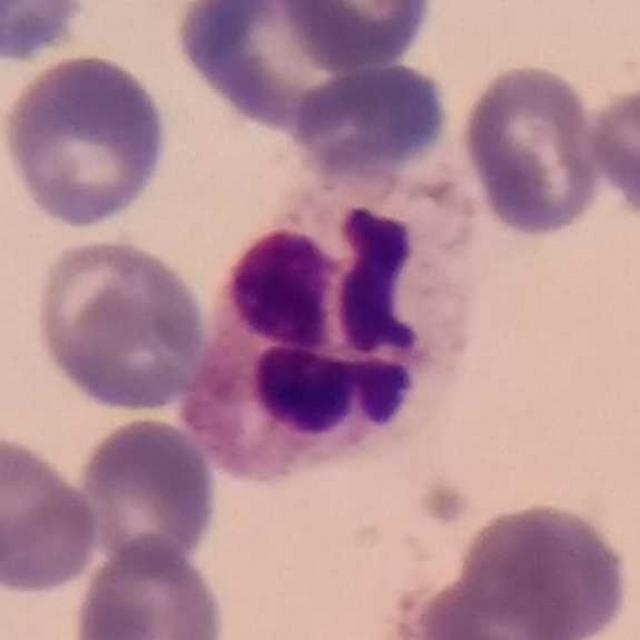Neutrophil: (182, 170, 479, 480)
RBC: (29, 233, 209, 416), (168, 0, 404, 138), (1, 50, 174, 232), (456, 59, 608, 240), (462, 490, 640, 640), (72, 412, 220, 575), (287, 59, 455, 187), (70, 532, 231, 640), (0, 428, 102, 597), (404, 569, 581, 640), (274, 0, 438, 72), (584, 77, 640, 226), (0, 0, 92, 65)
